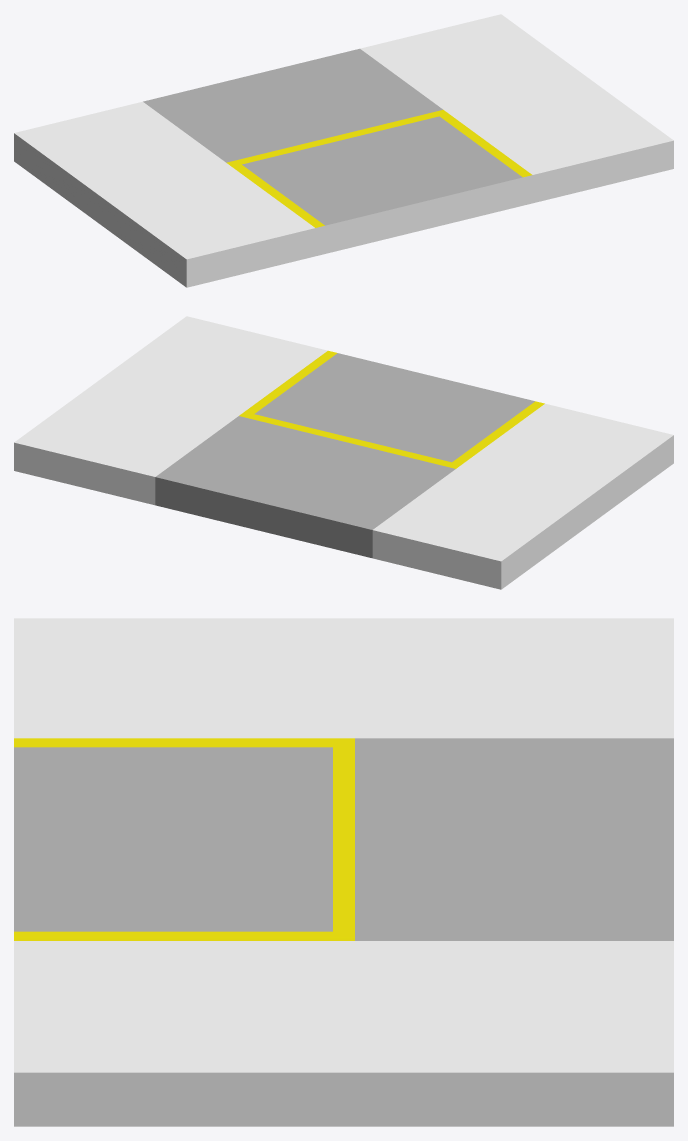
File: Console panel platform.fbx
3 renders of one model, top to bottom at view 1: azimuth 30°, elevation 25°; view 2: azimuth 150°, elevation 25°; view 3: azimuth 270°, elevation 25°, orthographic. The views are drawn at different scales.
Parts seen in each view (by area): view 1: Cube.031; view 2: Cube.031; view 3: Cube.031.
Boxes of the visible parts, box(x1,y1,x2,y2) form: Cube.031: box(14, 14, 673, 287); Cube.031: box(14, 316, 673, 589); Cube.031: box(14, 618, 673, 1126).
Bounding box in the file's own units: 1800 × 100 × 1105.
